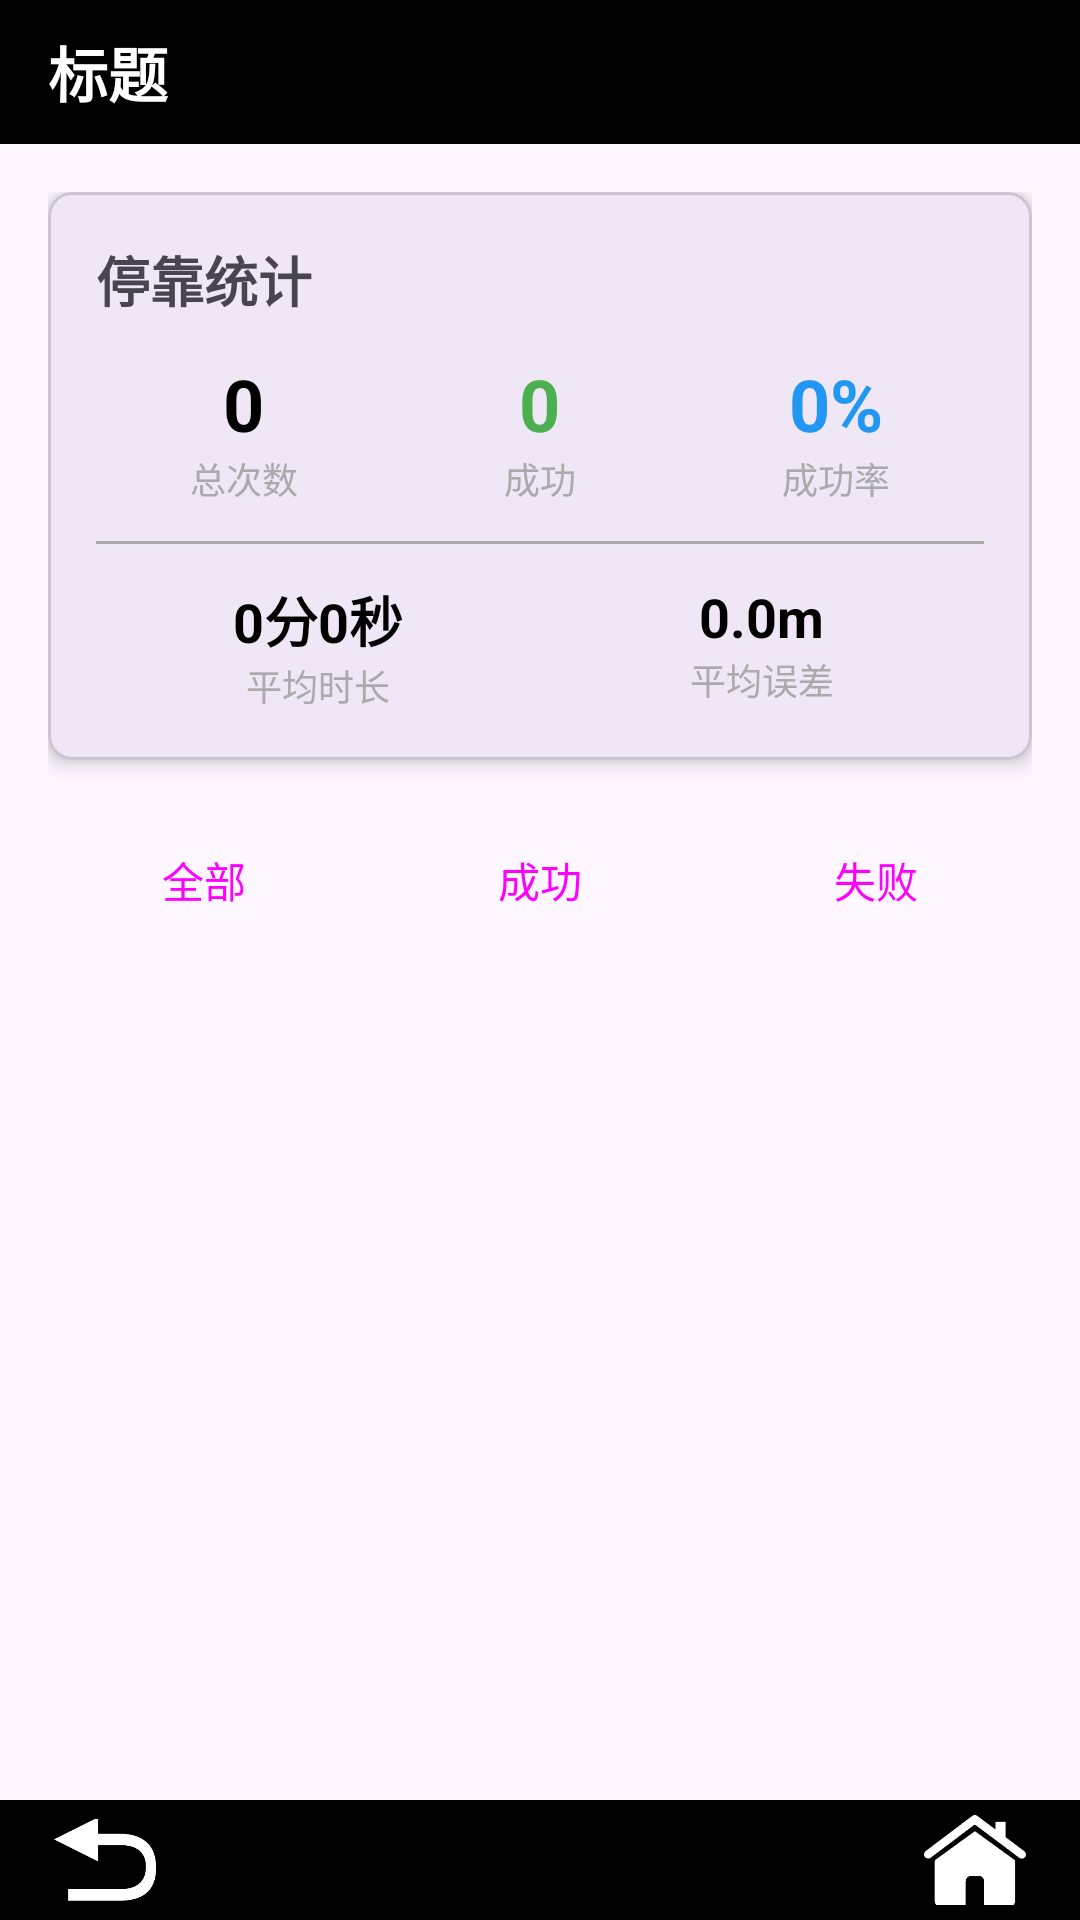

Locate icon controls on the screen. Image size 1080px×1920px, boxes as (x1, y1, x2, y2).
返回: (54, 1819, 156, 1901)
